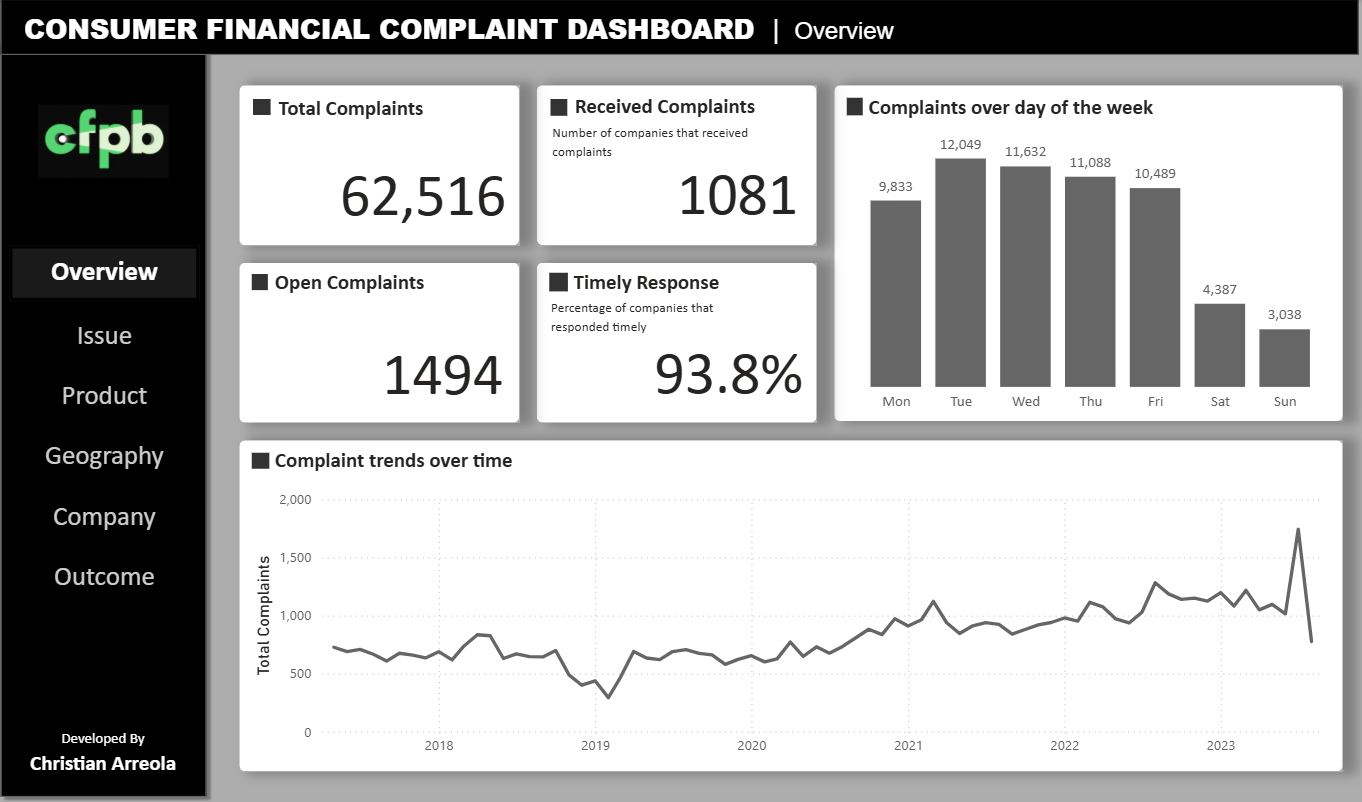

Layout of this report page (visuals, bound fields, positions):
{"tool":"powerbi","page":{"name":"Overview","canvas":[1280,720],"ordinal":0},"visuals":[{"type":"shape","title":"Complaints","box":[791.4,77.1,454.3,300],"z":1000},{"type":"shape","title":"Complaints","box":[525.7,235.7,250,142.9],"z":2000},{"type":"shape","title":"Complaints","box":[525.7,77.1,250,142.9],"z":3000},{"type":"shape","title":"Complaints","box":[260,235.7,250,142.9],"z":4000},{"type":"shape","box":[40,35,197.5,685],"z":5000},{"type":"shape","box":[260,394.3,985.7,295.7],"z":6000},{"type":"shape","box":[46.7,0,1213.3,50],"z":7000},{"type":"shape","title":"Complaints","box":[260,77.1,250,143],"z":8000},{"type":"card","title":"Complaints","fields":{"Values":["Complaints.Complaint Count"]},"box":[339.2,135.4,170.2,70.7],"z":9000},{"type":"textbox","box":[46.7,4.2,872.5,50],"z":10000},{"type":"textbox","box":[290,81.4,152.9,37.1],"z":11000},{"type":"card","fields":{"Values":["Avg(Company1.Timely_Response_Rate)"]},"box":[621.4,300,151.4,58.6],"z":12000},{"type":"shape","box":[272.5,89.5,15.7,14.3],"z":13000},{"type":"textbox","box":[286.7,236.7,153.3,37.8],"z":14000},{"type":"shape","box":[271.1,245.6,14.4,14.4],"z":15000},{"type":"lineChart","fields":{"Y":["Complaints.Complaint Count"],"Category":["Complaints.Date received.Variation.Date Hierarchy.Year","Complaints.Date received.Variation.Date Hierarchy.Month"]},"box":[268.6,432.9,967.1,251.4],"z":16000},{"type":"card","fields":{"Values":["Complaints.Open Complaints"]},"box":[374.3,300,135.7,60],"z":17000},{"type":"textbox","box":[554.3,237.1,152.9,37.1],"z":18000},{"type":"shape","box":[536.7,244.4,16.7,16.7],"z":19000},{"type":"textbox","box":[554.4,78.9,184.4,37.8],"z":20000},{"type":"shape","box":[537.8,88.8,15,15],"z":21000},{"type":"card","fields":{"Values":["Company1.No. of Companies w/ Complaints"]},"box":[637.1,135.7,135.7,67.1],"z":22000},{"type":"textbox","box":[535,103.8,203.8,51.2],"z":23000},{"type":"textbox","box":[534.3,260,204.3,54.3],"z":24000},{"type":"actionButton","box":[54.3,220.4,170,50],"z":25000},{"type":"actionButton","box":[54.3,274.4,170,50],"z":26000},{"type":"actionButton","box":[54.3,328.4,170,50],"z":27000},{"type":"actionButton","box":[54.3,382.4,170,50],"z":28000},{"type":"actionButton","box":[54.3,436.4,170,50],"z":29000},{"type":"actionButton","box":[54.3,490.4,170,50],"z":30000},{"type":"textbox","box":[287.1,395.7,282.9,37.1],"z":31000},{"type":"shape","box":[271.1,405.8,15.7,14.3],"z":32000},{"type":"columnChart","fields":{"Category":["Complaints.Week"],"Y":["Complaints.Complaint Count"]},"box":[795.7,104.3,450,272.9],"z":33000},{"type":"textbox","box":[817.1,80,370,37.1],"z":34000},{"type":"shape","box":[802.9,88.6,14.3,15.7],"z":35000},{"type":"textbox","box":[91.1,645.6,96.7,30],"z":36000},{"type":"textbox","box":[58.2,666.4,160.9,36.4],"z":37000},{"type":"image","box":[75,89.5,128.4,75],"z":38000}]}

Visuals, with their boxes on the page's 1280x720 design canvas (x1, y1, x2, y2). These are canvas units, not pixel positions in the 1362x802 screenshot, which may show the page scaled, cropped or inside an application window:
"Complaints" shape: crop(791, 77, 1246, 377)
"Complaints" shape: crop(526, 236, 776, 379)
"Complaints" shape: crop(526, 77, 776, 220)
"Complaints" shape: crop(260, 236, 510, 379)
shape: crop(40, 35, 238, 720)
shape: crop(260, 394, 1246, 690)
shape: crop(47, 0, 1260, 50)
"Complaints" shape: crop(260, 77, 510, 220)
"Complaints" card: crop(339, 135, 509, 206)
textbox: crop(47, 4, 919, 54)
textbox: crop(290, 81, 443, 118)
card - Avg(Company1.Timely_Response_Rate): crop(621, 300, 773, 359)
shape: crop(272, 90, 288, 104)
textbox: crop(287, 237, 440, 274)
shape: crop(271, 246, 286, 260)
lineChart - Complaints.Complaint Count x Complaints.Date received.Variation.Date Hierarchy.Year: crop(269, 433, 1236, 684)
card - Complaints.Open Complaints: crop(374, 300, 510, 360)
textbox: crop(554, 237, 707, 274)
shape: crop(537, 244, 553, 261)
textbox: crop(554, 79, 739, 117)
shape: crop(538, 89, 553, 104)
card - Company1.No. of Companies w/ Complaints: crop(637, 136, 773, 203)
textbox: crop(535, 104, 739, 155)
textbox: crop(534, 260, 739, 314)
actionButton: crop(54, 220, 224, 270)
actionButton: crop(54, 274, 224, 324)
actionButton: crop(54, 328, 224, 378)
actionButton: crop(54, 382, 224, 432)
actionButton: crop(54, 436, 224, 486)
actionButton: crop(54, 490, 224, 540)
textbox: crop(287, 396, 570, 433)
shape: crop(271, 406, 287, 420)
columnChart - Complaints.Week x Complaints.Complaint Count: crop(796, 104, 1246, 377)
textbox: crop(817, 80, 1187, 117)
shape: crop(803, 89, 817, 104)
textbox: crop(91, 646, 188, 676)
textbox: crop(58, 666, 219, 703)
image: crop(75, 90, 203, 164)
